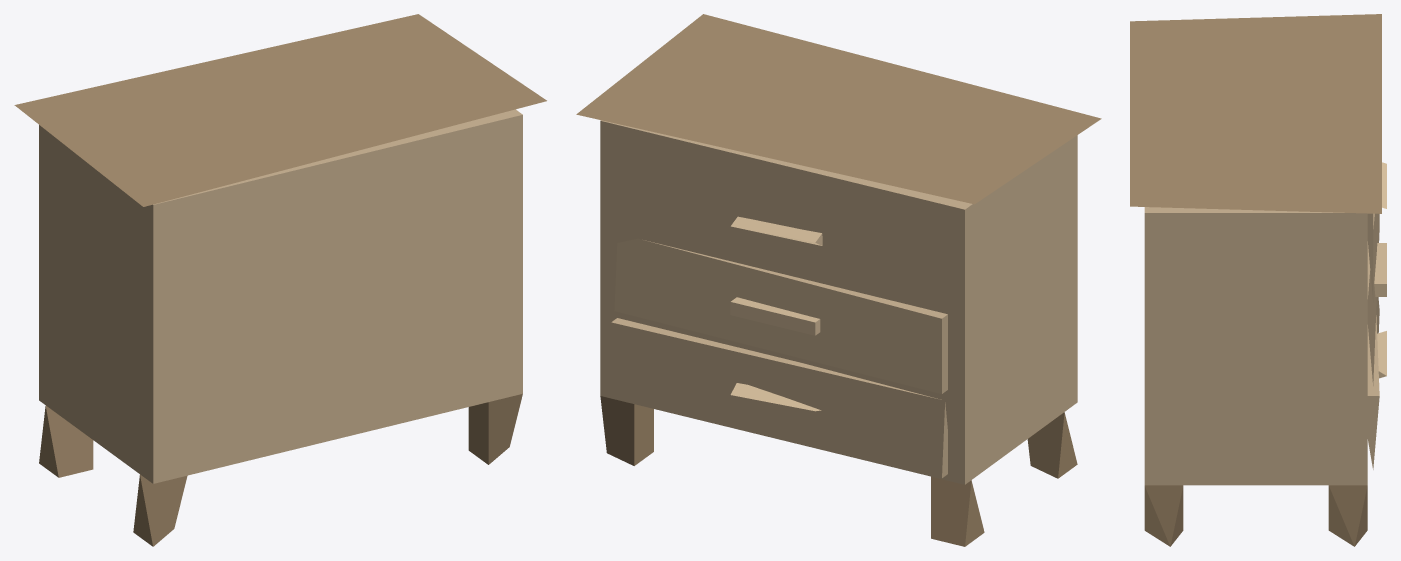
Rendered from 18-Casas_comoda.glb.
3 renders of one model, left to right at view 1: azimuth 30°, elevation 25°; view 2: azimuth 150°, elevation 25°; view 3: azimuth 270°, elevation 25°, orthographic. The views are drawn at different scales.
Parts seen in each view (by area): view 1: SM_Comoda_M_Mueble_Madera_Clara, SM_Comoda_M_Mueble_Madera_Oscura; view 2: SM_Comoda_M_Mueble_Madera_Clara, SM_Comoda_M_Mueble_Madera_Oscura, SM_Comoda_M_Mueble_Bronce; view 3: SM_Comoda_M_Mueble_Madera_Clara, SM_Comoda_M_Mueble_Madera_Oscura, SM_Comoda_M_Mueble_Bronce.
Part boxes in pixels (box(x1,y1,x2,y2)): SM_Comoda_M_Mueble_Madera_Clara: box(39, 109, 522, 483); SM_Comoda_M_Mueble_Madera_Oscura: box(14, 14, 546, 546); SM_Comoda_M_Mueble_Madera_Clara: box(600, 120, 1077, 484); SM_Comoda_M_Mueble_Madera_Oscura: box(576, 14, 1101, 546); SM_Comoda_M_Mueble_Bronce: box(730, 216, 822, 411); SM_Comoda_M_Mueble_Madera_Clara: box(1144, 207, 1379, 485); SM_Comoda_M_Mueble_Madera_Oscura: box(1130, 14, 1381, 546); SM_Comoda_M_Mueble_Bronce: box(1374, 162, 1386, 378).
Size of the model in its own units: 0.94 by 0.7933 by 0.53.
